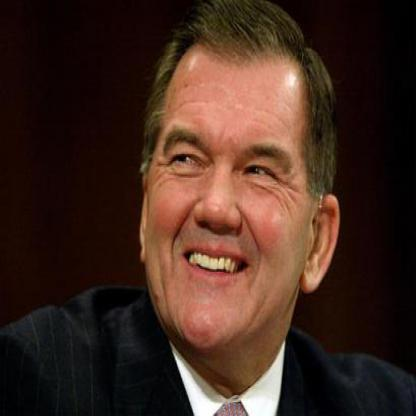face: (140, 11, 322, 357)
